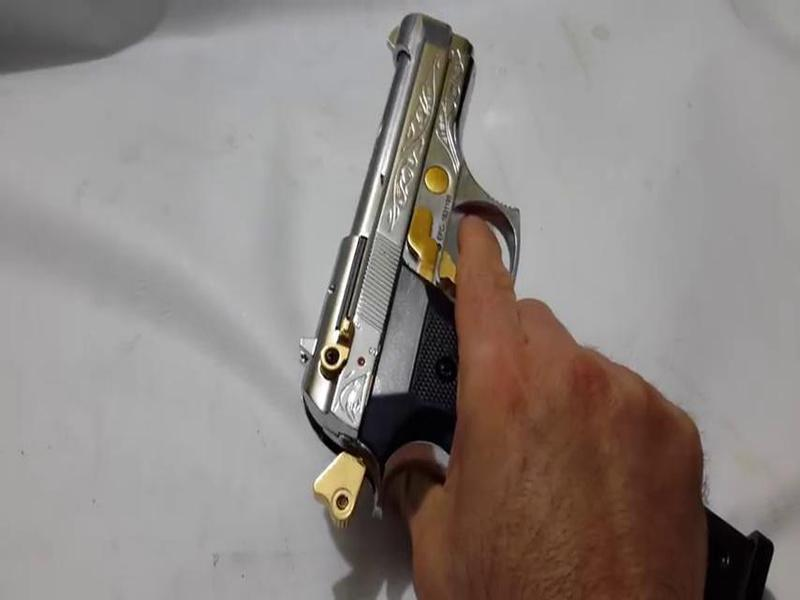Pistola: (249, 5, 538, 516)
